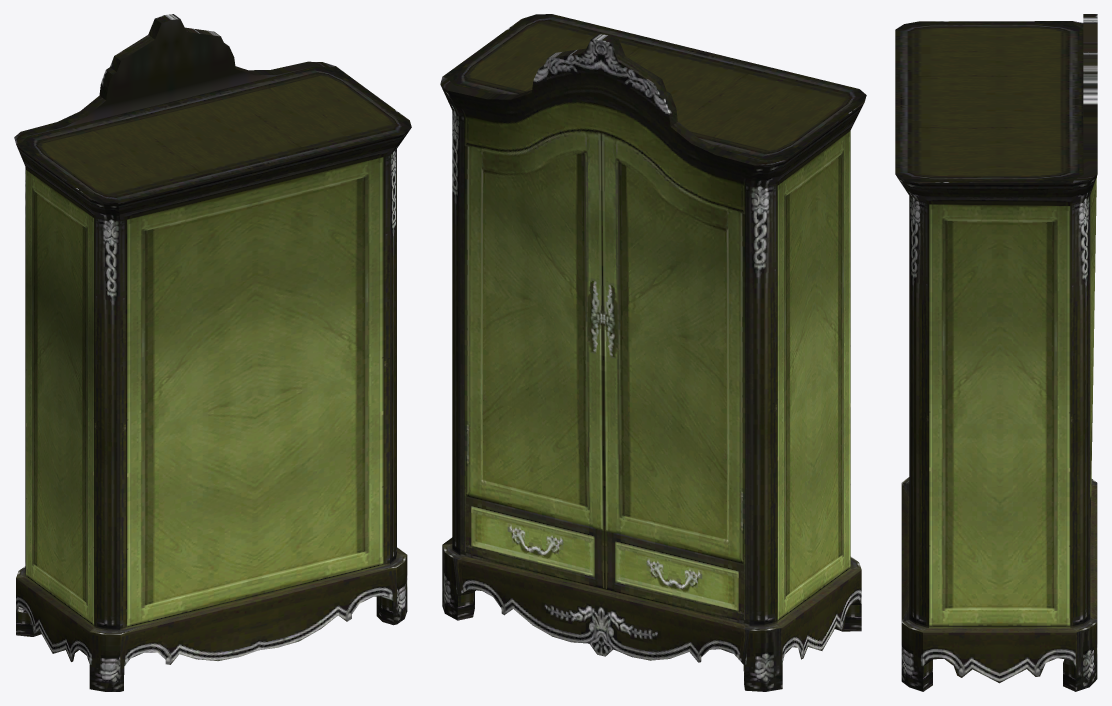
Rendered from furni_0201218_03.FBX.
The picture shows the model from 3 angles, left to right: view 1: azimuth 30°, elevation 25°; view 2: azimuth 150°, elevation 25°; view 3: azimuth 270°, elevation 25°; orthographic projection. The views are drawn at different scales.
Parts seen in each view (by area): view 1: furni_0201218_03; view 2: furni_0201218_03; view 3: furni_0201218_03.
Boxes of the visible parts, box(x1,y1,x2,y2) form: furni_0201218_03: box(14, 14, 411, 691); furni_0201218_03: box(440, 14, 866, 691); furni_0201218_03: box(895, 14, 1097, 691).
Size of the model in its own units: 169 by 290 by 89.31.
